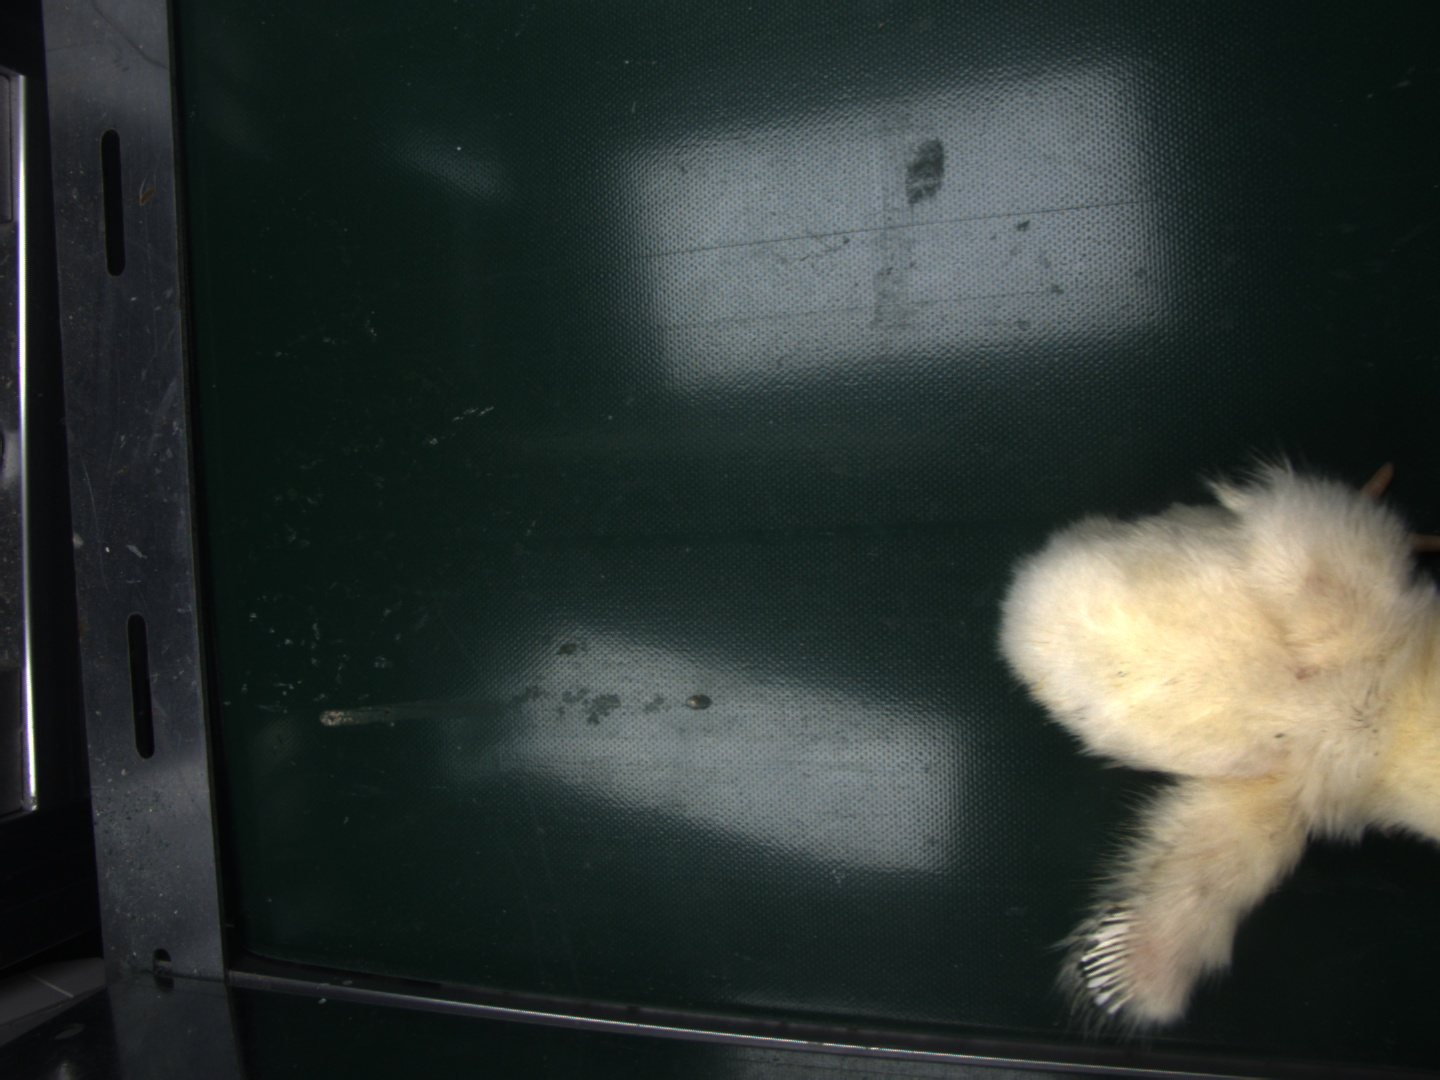male: (1082, 909, 1144, 1010)
